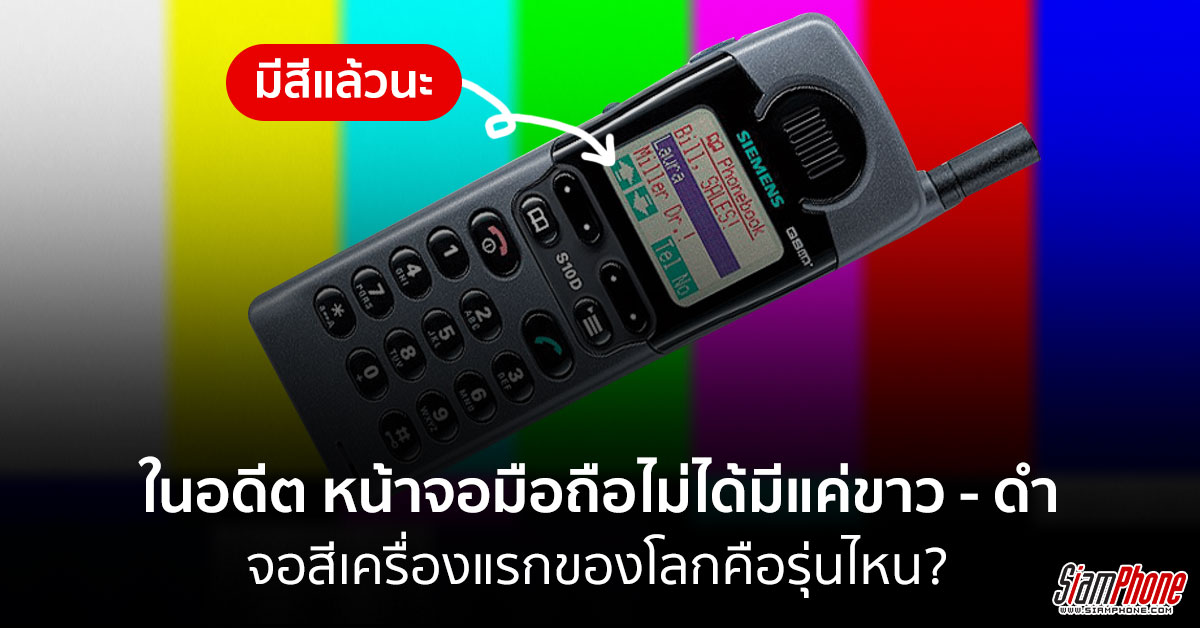Phone: (243, 12, 1042, 464)
